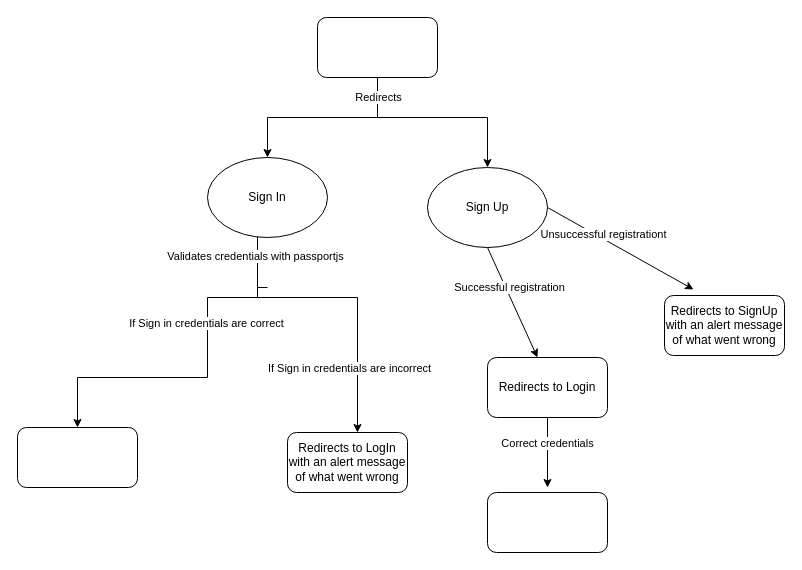
Image size: 802x570. Some labels were removed from this diagram. Each missing label, with the box of its shape:
Redirects to Dashboard: (16, 426, 138, 488)
Redirects you to Dashboard: (486, 492, 608, 552)
Welcome page: (316, 16, 438, 78)
